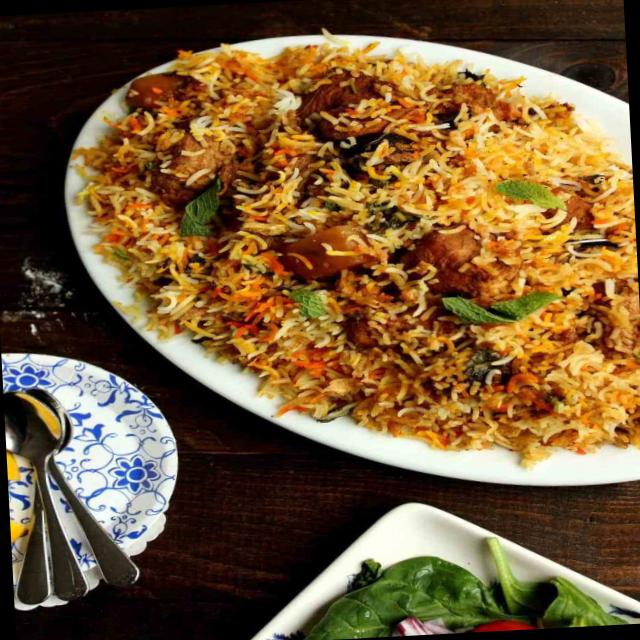Biryani: (49, 30, 640, 515)
